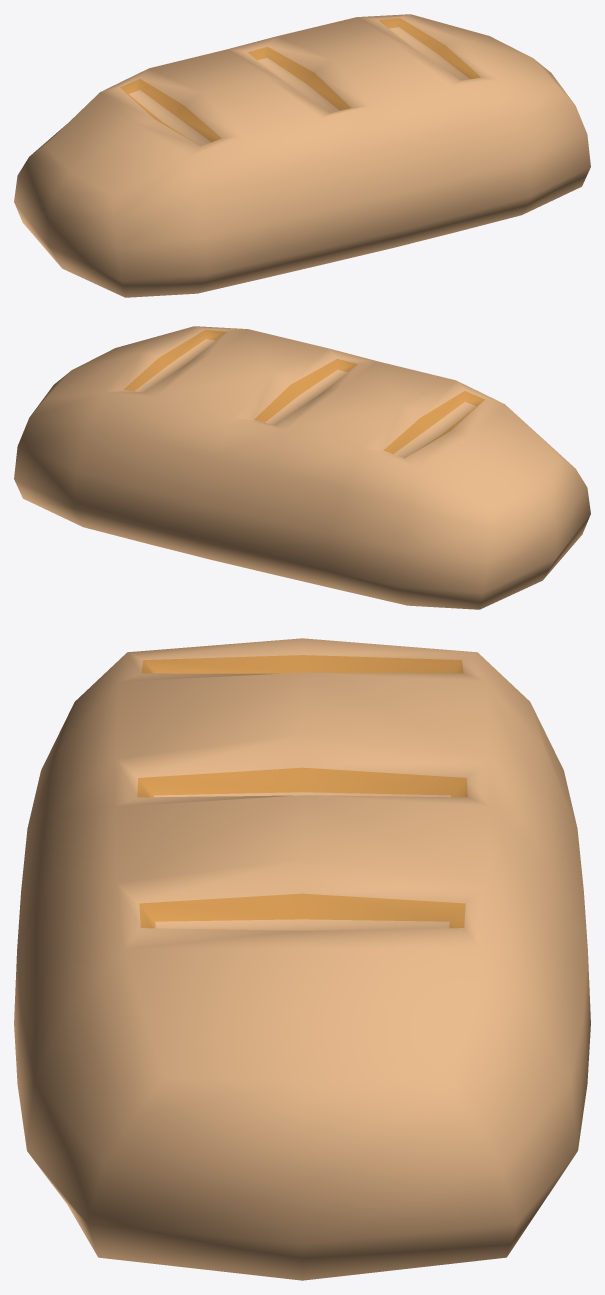
The model's file is BreadRoll.fbx.
3 renders of one model, top to bottom at view 1: azimuth 30°, elevation 25°; view 2: azimuth 150°, elevation 25°; view 3: azimuth 270°, elevation 25°, orthographic. The views are drawn at different scales.
Visible parts, largest first — view 1: BreadRoll; view 2: BreadRoll; view 3: BreadRoll.
Part boxes in pixels (x1=…): BreadRoll: x1=14, y1=14, x2=590, y2=297; BreadRoll: x1=14, y1=326, x2=590, y2=609; BreadRoll: x1=14, y1=638, x2=590, y2=1280.
Bounding box in the file's own units: 60.76 × 17.06 × 30.25.
